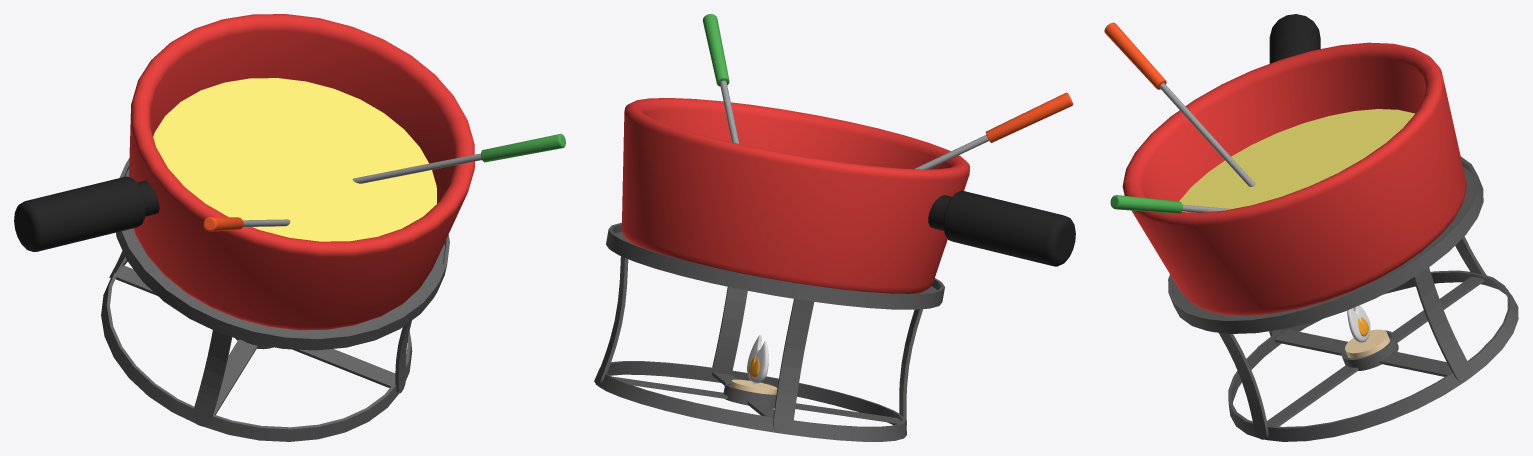
Rendered from fondue.glb.
3 views of the same model, side by side, from view 1: azimuth 30°, elevation 25°; view 2: azimuth 150°, elevation 25°; view 3: azimuth 270°, elevation 25° (orthographic). The views are drawn at different scales.
Parts seen in each view (by area): view 1: Circle.2219, Circle.2226, Circle.2228, Circle.2227; view 2: Circle.2219, Circle.2226, Circle.2227, Circle.2228, Cube.406; view 3: Circle.2219, Circle.2226, Circle.2227, Circle.2228, Cube.406.
Boxes of the visible parts, box(x1,y1,x2,y2) form: Circle.2219: box(14, 14, 474, 330); Circle.2226: box(101, 158, 449, 441); Circle.2228: box(352, 133, 565, 183); Circle.2227: box(203, 217, 290, 231); Circle.2219: box(621, 98, 1075, 293); Circle.2226: box(594, 222, 944, 441); Circle.2227: box(914, 92, 1072, 169); Circle.2228: box(702, 14, 739, 143); Cube.406: box(747, 334, 768, 383); Circle.2219: box(1122, 14, 1466, 315); Circle.2226: box(1168, 156, 1518, 441); Circle.2227: box(1104, 22, 1255, 186); Circle.2228: box(1110, 195, 1231, 213); Cube.406: box(1347, 305, 1370, 342).
Bounding box in the file's own units: 2.17 × 1.56 × 1.77.
Materials: 1 (1 with a texture image).
